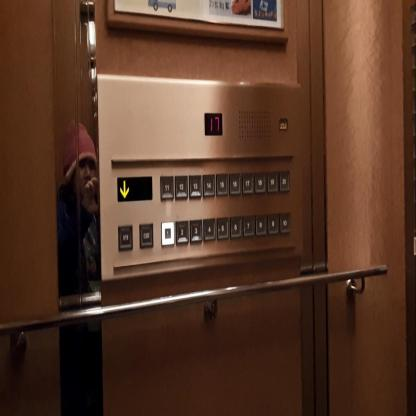1: (160, 219, 175, 248)
10: (280, 211, 291, 234)
11: (159, 174, 174, 201)
12: (174, 173, 188, 201)
13: (188, 173, 202, 201)
14: (202, 172, 215, 198)
15: (215, 172, 228, 198)
16: (228, 171, 241, 196)
17: (240, 171, 254, 195)
18: (254, 170, 266, 194)
19: (266, 170, 278, 194)
2: (175, 218, 189, 247)
20: (278, 168, 290, 193)
3: (188, 217, 202, 245)
4: (202, 216, 216, 243)
5: (216, 215, 228, 241)
6: (229, 214, 242, 240)
7: (242, 212, 255, 238)
8: (255, 213, 266, 237)
9: (267, 212, 279, 235)
call: (278, 116, 288, 130)
down: (116, 174, 153, 204)
led: (203, 110, 223, 136)
text_close door: (138, 222, 154, 250)
text_open door: (117, 222, 133, 253)
